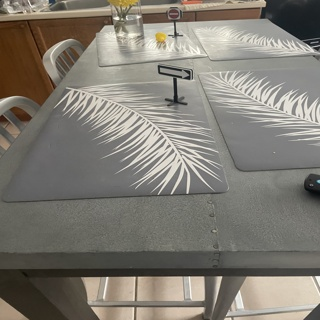sign_oneway_right: (155, 62, 192, 79)
